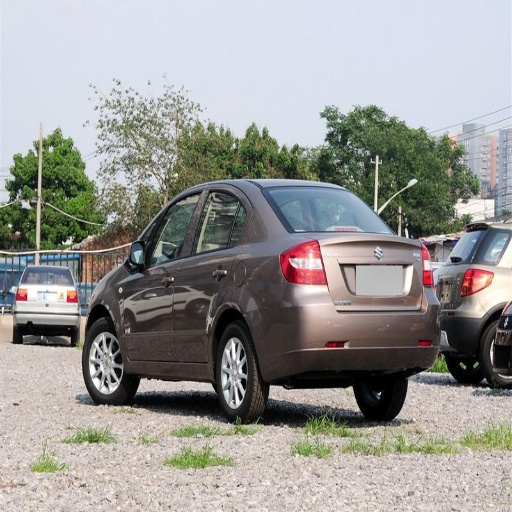back_bumper: (255, 284, 507, 382)
back_glass: (261, 185, 380, 230)
back_left_door: (175, 185, 247, 364)
